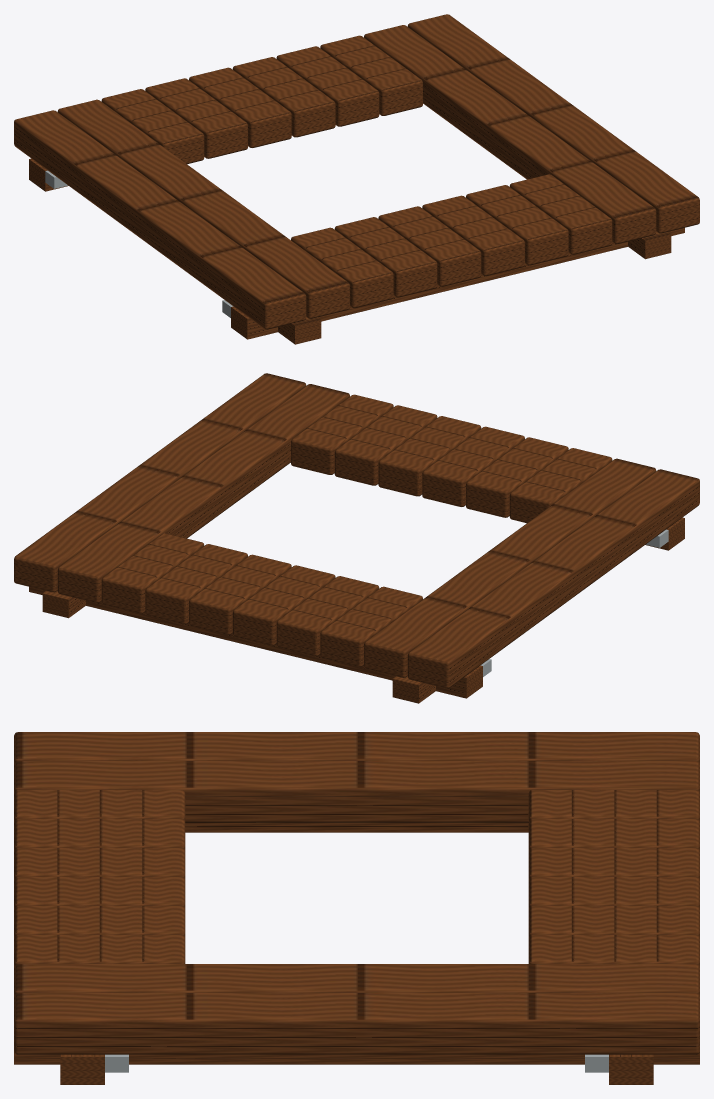
Rendered from modular-survival-base-builder-floor-trapdoor-frame-rei-61667ee0__24280.glb.
The picture shows the model from 3 angles, top to bottom: view 1: azimuth 30°, elevation 25°; view 2: azimuth 150°, elevation 25°; view 3: azimuth 270°, elevation 25°; orthographic projection. The views are drawn at different scales.
Visible parts, largest first — view 1: floor-trapdoor-frame-reinforced; view 2: floor-trapdoor-frame-reinforced; view 3: floor-trapdoor-frame-reinforced.
Part boxes in pixels (<box>): floor-trapdoor-frame-reinforced: <box>14,14,699,344</box>; floor-trapdoor-frame-reinforced: <box>14,373,699,703</box>; floor-trapdoor-frame-reinforced: <box>14,732,699,1084</box>.
Size of the model in its own units: 2 by 0.21 by 2.
2 materials, 1 textured.
